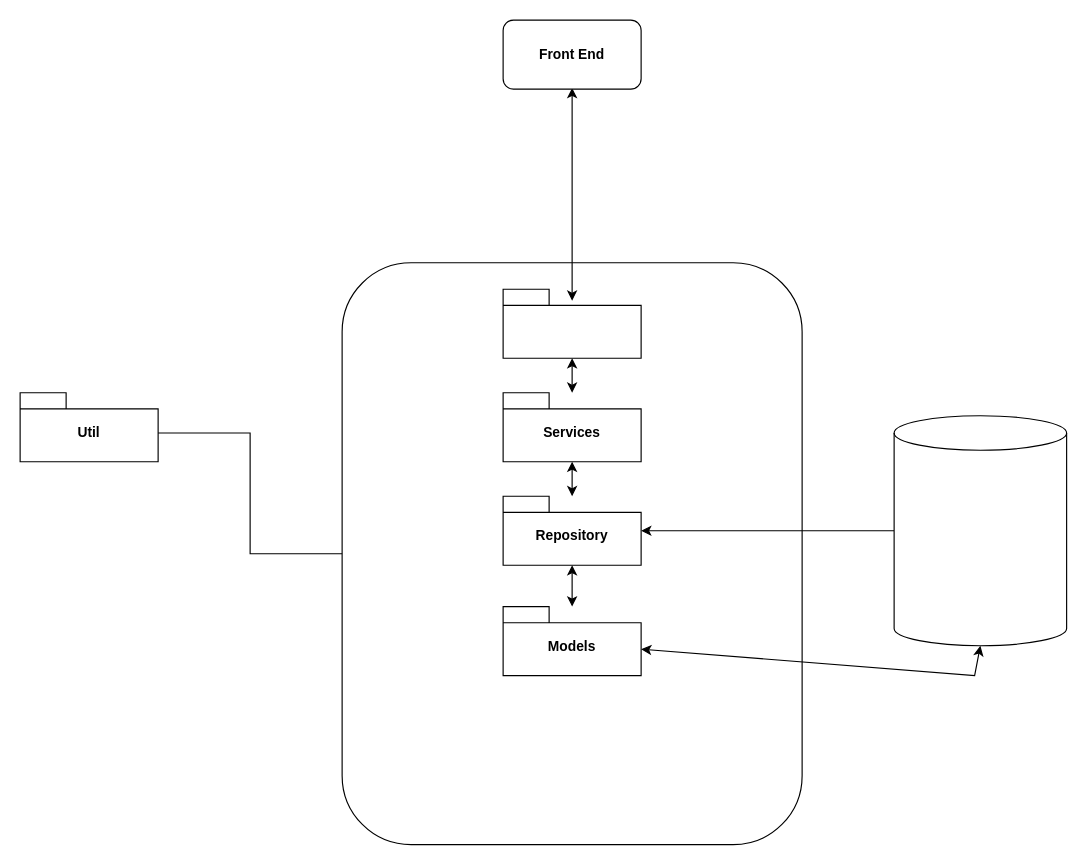
Some shapes in this 1087 by 865 pixel diagram are drawn without their labels. Here are the shapes that lost their labels. From the top down, the box of each, then its label:
(502, 288, 641, 358): Controlllers
(893, 415, 1067, 646): DATABASE
